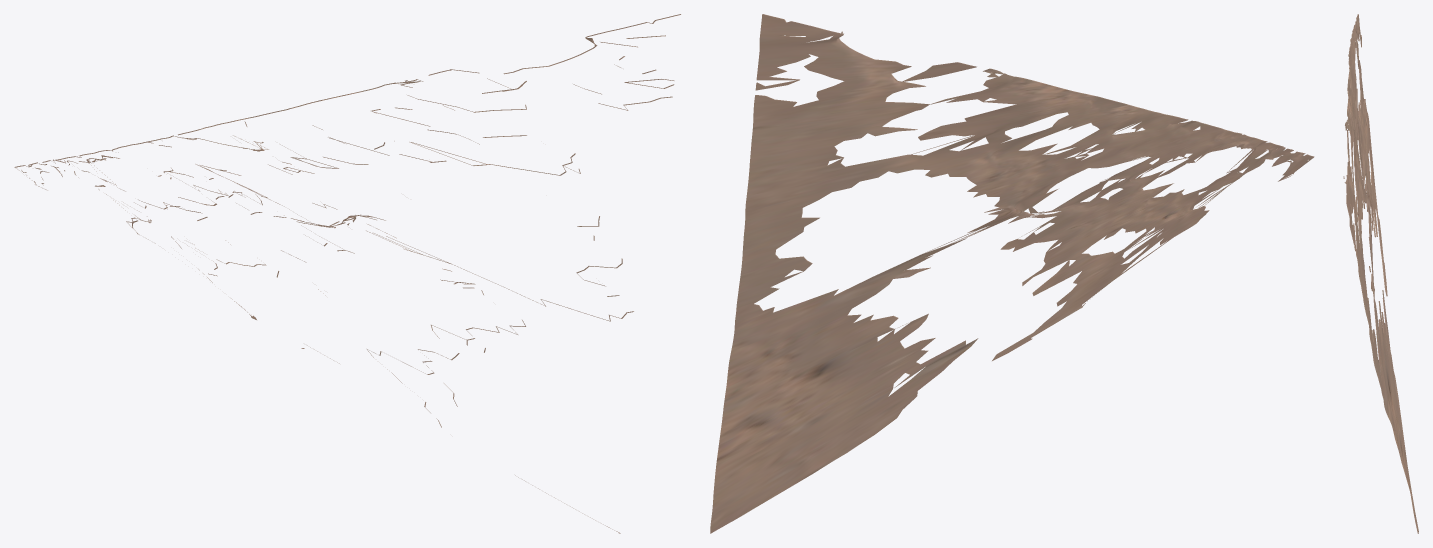
3 renders of one model, left to right at view 1: azimuth 30°, elevation 25°; view 2: azimuth 150°, elevation 25°; view 3: azimuth 270°, elevation 25°, orthographic. The views are drawn at different scales.
Size of the model in its own units: 40.37 by 33.16 by 6.86.
1 material, 1 textured.
